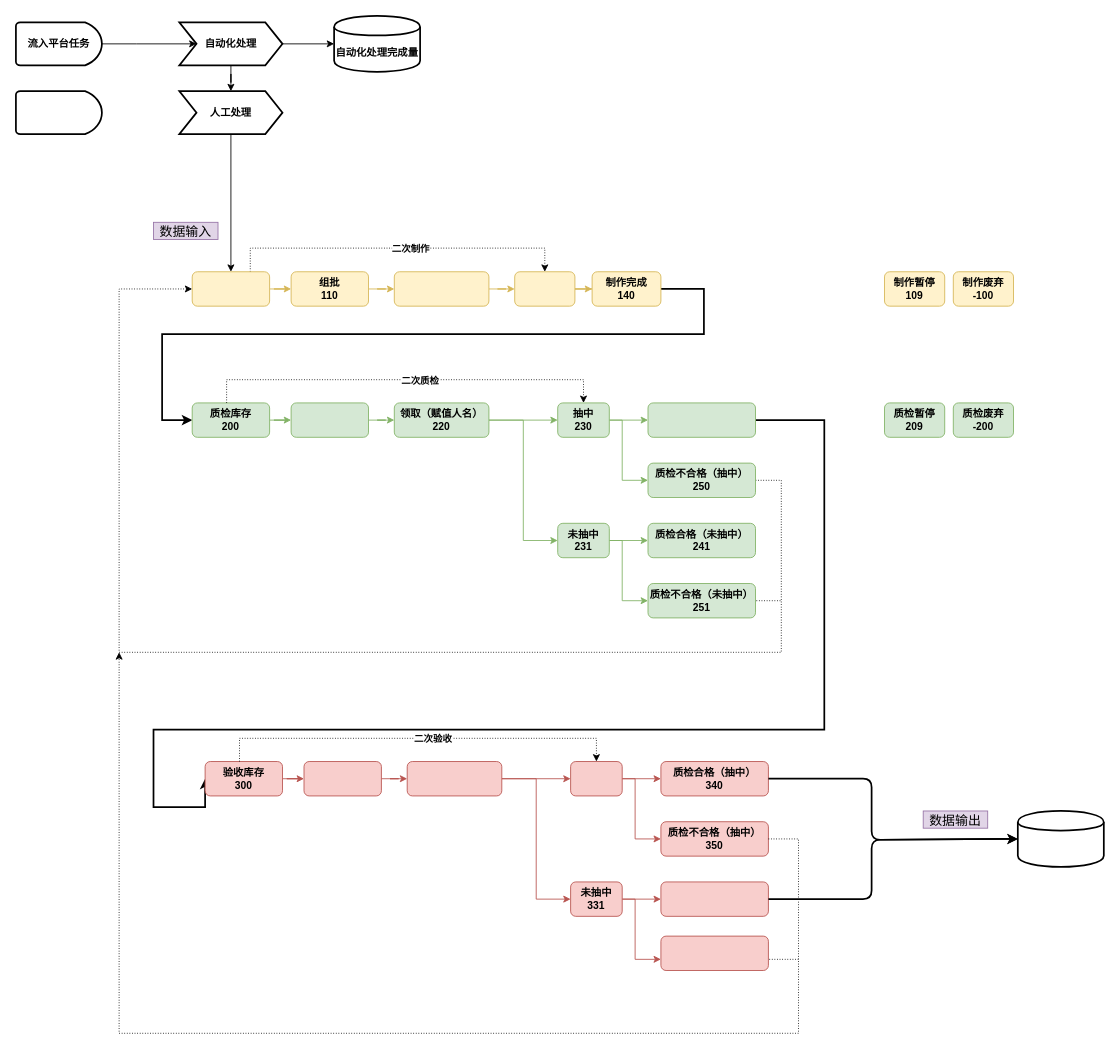
Some shapes in this 1119 by 1055 pixel diagram are drawn without their labels. Here are the shapes that lost their labels. From the top down, the centre of each, then its label:
the point at 58,112: 未推入平台任务
the point at 230,288: 制作库存 100
the point at 441,288: 领取（赋值人名） 120
the point at 544,288: 抽中 130
the point at 329,419: 组批 210
the point at 701,419: 质检合格（抽中） 240
the point at 342,778: 组批 310
the point at 454,778: 领取（赋值人名） 320
the point at 596,778: 抽中 330
the point at 1060,838: 人工处理完成量
the point at 714,898: 质检合格（未抽中） 341
the point at 714,953: 质检不合格（未抽中） 351
